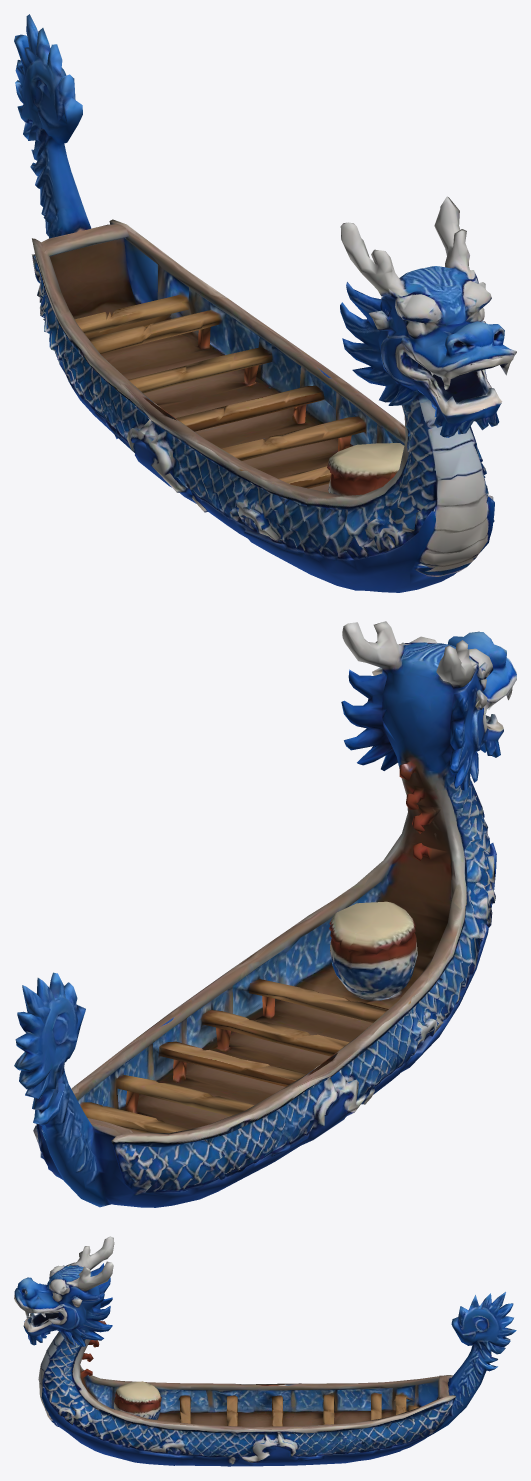
The model's file is opp-blue.glb.
The picture shows the model from 3 angles, top to bottom: view 1: azimuth 30°, elevation 25°; view 2: azimuth 150°, elevation 25°; view 3: azimuth 270°, elevation 25°; orthographic projection. The views are drawn at different scales.
Visible parts, largest first — view 1: tripo_node_a77005d8-abf1-411e-97a2-90e908368213; view 2: tripo_node_a77005d8-abf1-411e-97a2-90e908368213; view 3: tripo_node_a77005d8-abf1-411e-97a2-90e908368213.
Boxes of the visible parts, x1,y1,x2,y2 form: tripo_node_a77005d8-abf1-411e-97a2-90e908368213: (14,14,516,592); tripo_node_a77005d8-abf1-411e-97a2-90e908368213: (14,621,516,1207); tripo_node_a77005d8-abf1-411e-97a2-90e908368213: (14,1236,516,1466).
Size of the model in its own units: 0.234 by 0.4484 by 0.98.
1 material, 1 textured.
